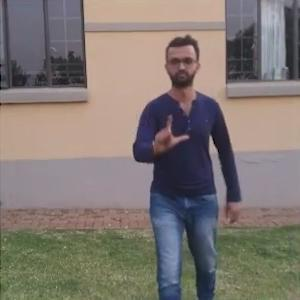land_hand: (148, 112, 190, 156)
